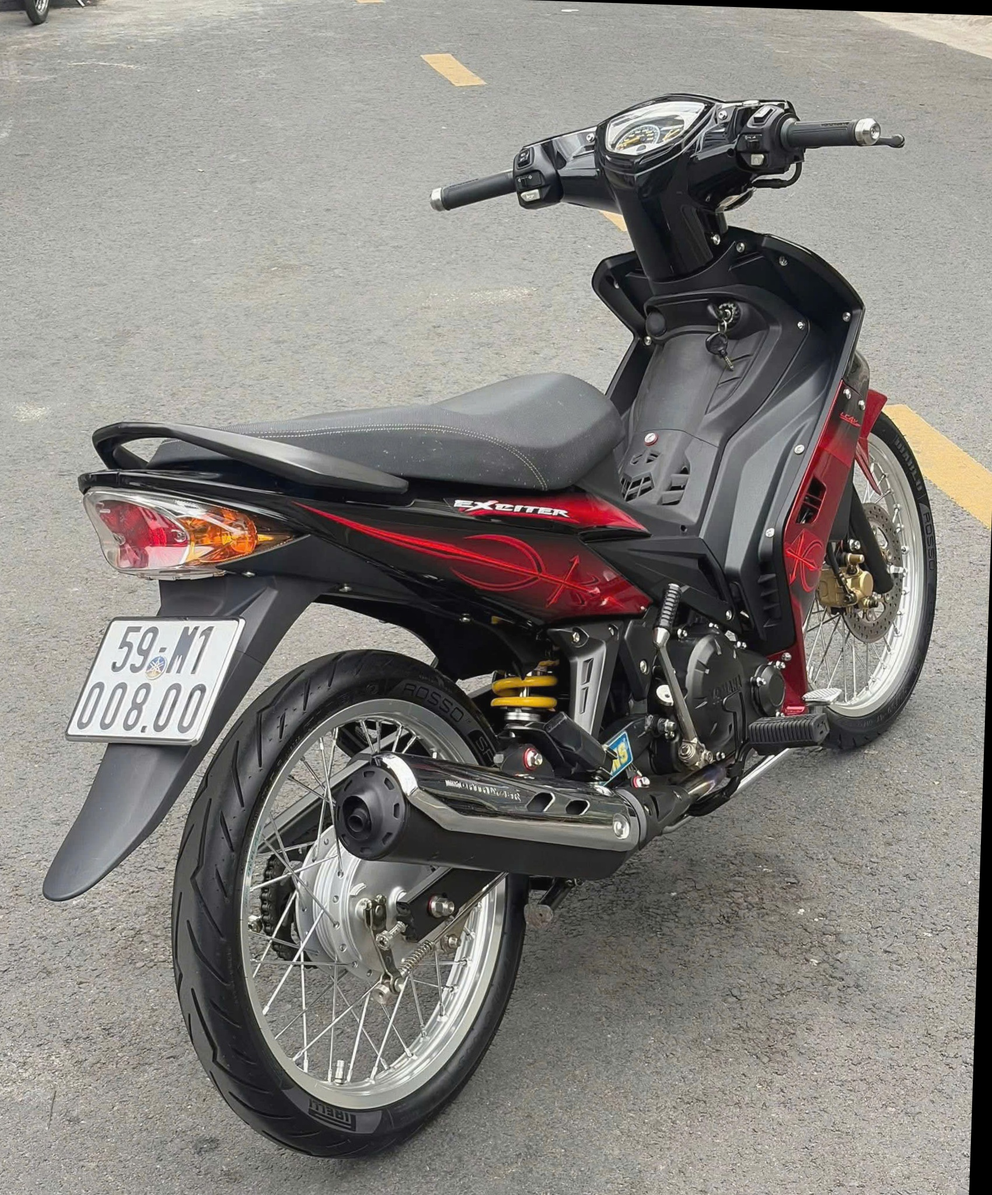Bien-so: (61, 617, 249, 753)
